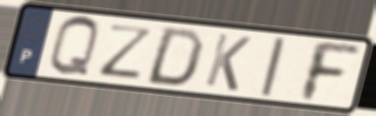D: (142, 25, 207, 89)
F: (299, 38, 363, 105)
I: (257, 35, 288, 98)
K: (201, 31, 253, 94)
Q: (46, 14, 102, 79)
Z: (97, 22, 158, 81)
